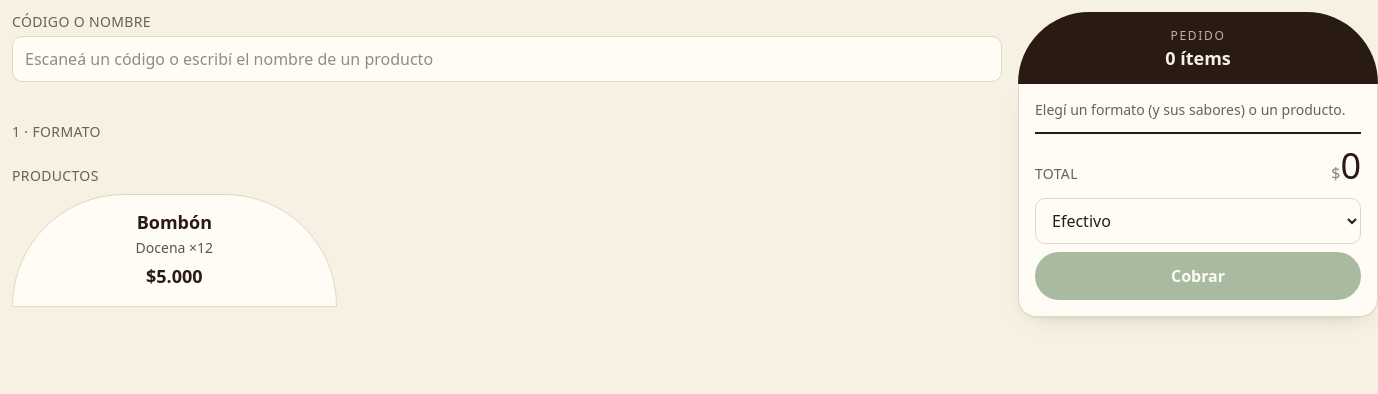
Test: FormularioTicket: después de cobrar › si el cobro falla, el carrito no se toca
Click the button "Bombón Docena ×12 $5.000": x=174, y=250 [12, 194, 337, 306]
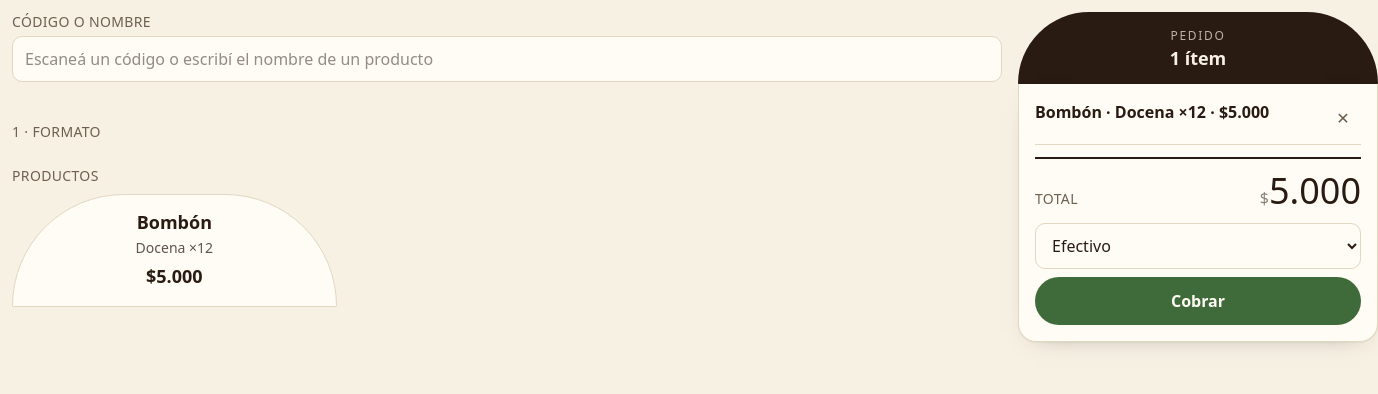
Submit the form "Cobrar", box [1035, 223, 1361, 325]
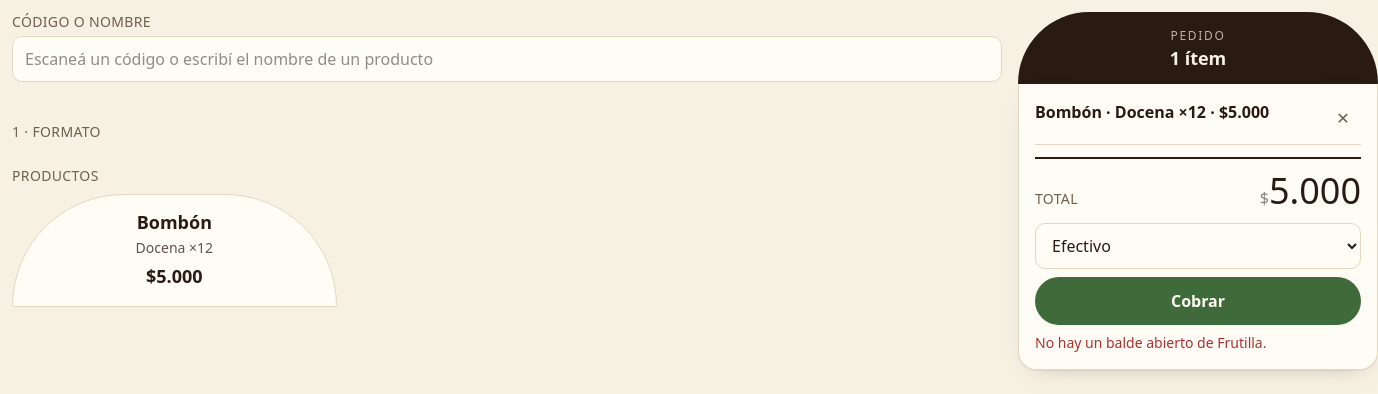
Expected: the heading "1 ítem" is shown, [1170, 46, 1226, 70]
Expected: the message "No hay un balde abierto de Frutilla." is shown, [1035, 333, 1266, 352]
